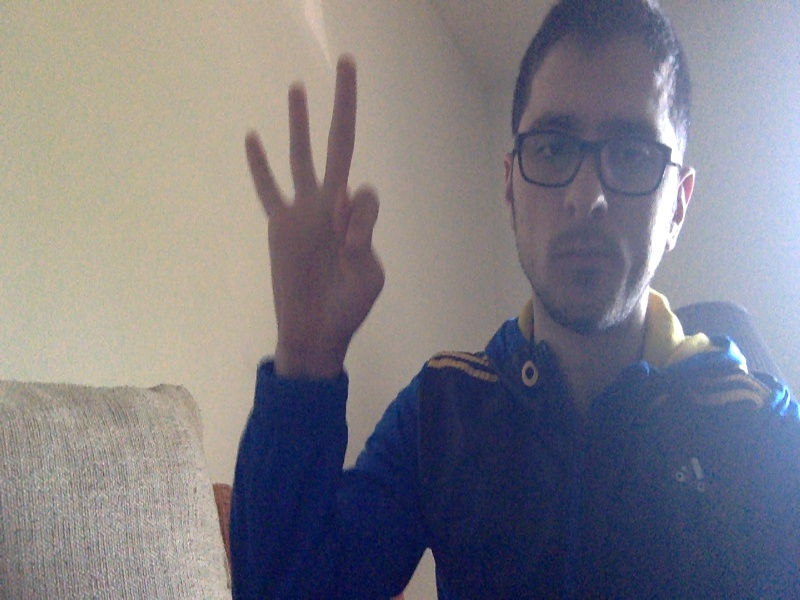3-hand: (244, 55, 385, 355)
